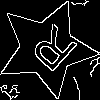R: (21, 23, 80, 81)
